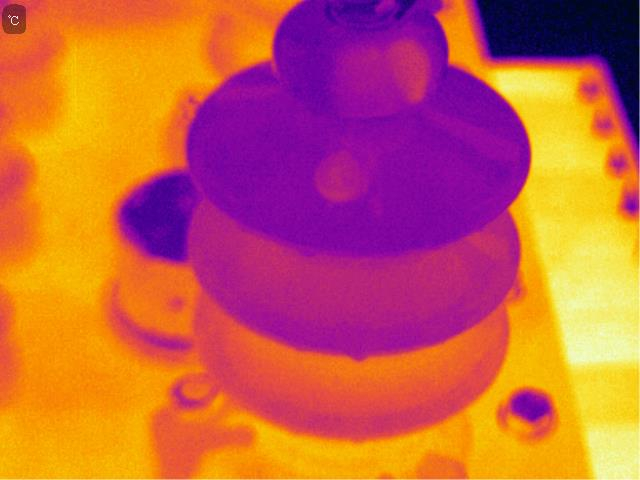Oil: (306, 143, 381, 211), (221, 52, 298, 107), (381, 38, 439, 106), (298, 242, 321, 261), (348, 348, 371, 363)
